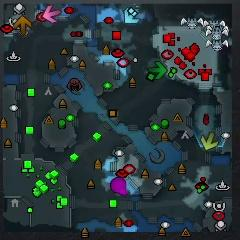p3: (110, 176, 128, 196)
x1: (43, 5, 61, 22)
x2: (201, 132, 220, 150)
x3: (124, 6, 141, 25)
x4: (149, 61, 167, 79)
x5: (15, 17, 31, 34)
